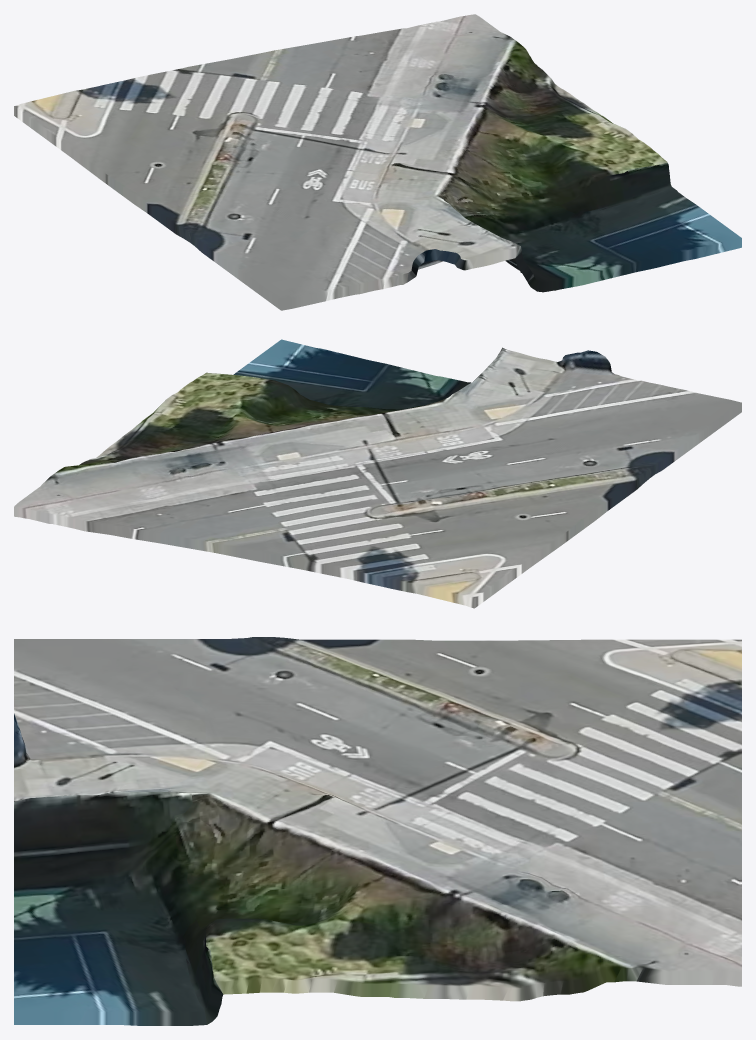
Rendered from z20-167735-405196-h0-yup-uvflip-v3-world.glb.
The picture shows the model from 3 angles, top to bottom: view 1: azimuth 30°, elevation 25°; view 2: azimuth 150°, elevation 25°; view 3: azimuth 270°, elevation 25°; orthographic projection. The views are drawn at different scales.
Size of the model in its own units: 30.16 by 4.68 by 30.32.
1 material, 1 textured.
